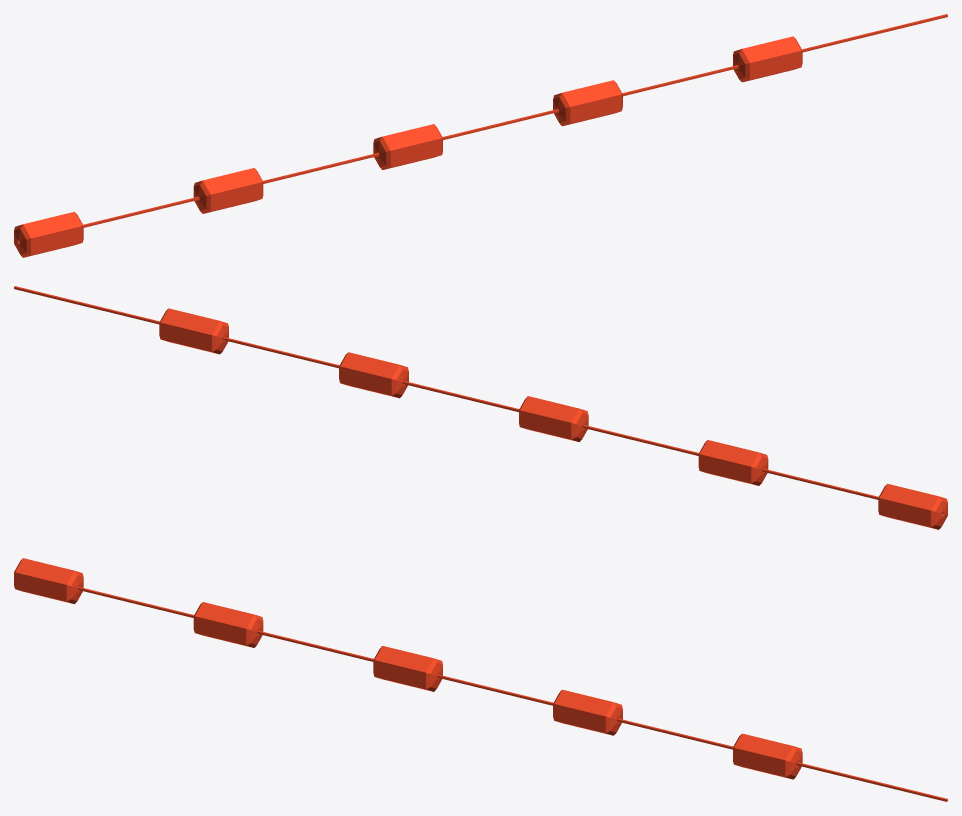
File: SM_Buoy_Line_C_City.fbx
3 views of the same model, one above another, from view 1: azimuth 30°, elevation 25°; view 2: azimuth 150°, elevation 25°; view 3: azimuth 330°, elevation 25° (orthographic).
Visible parts, largest first — view 1: SM_Buoy_Line_C_City; view 2: SM_Buoy_Line_C_City; view 3: SM_Buoy_Line_C_City.
Boxes of the visible parts, <box> form: SM_Buoy_Line_C_City: <box>14,14,947,257</box>; SM_Buoy_Line_C_City: <box>14,286,947,529</box>; SM_Buoy_Line_C_City: <box>14,558,947,801</box>.
Bounding box in the file's own units: 15.5 × 0.5372 × 0.4653.
